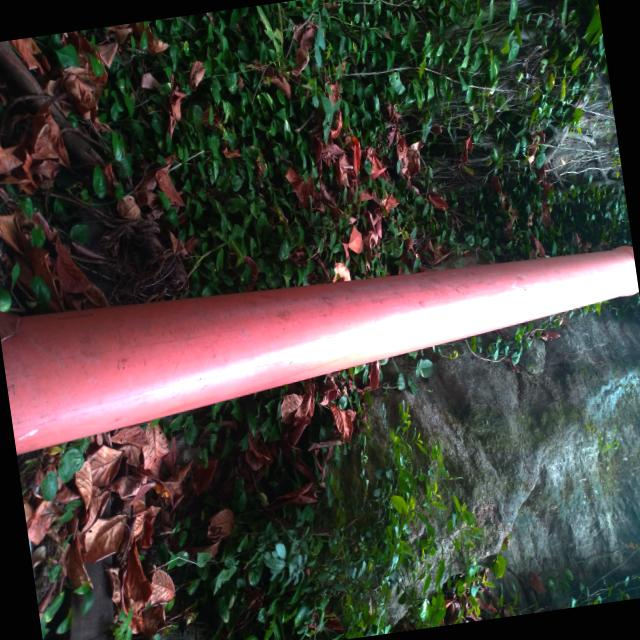gas: (0, 222, 640, 457)
